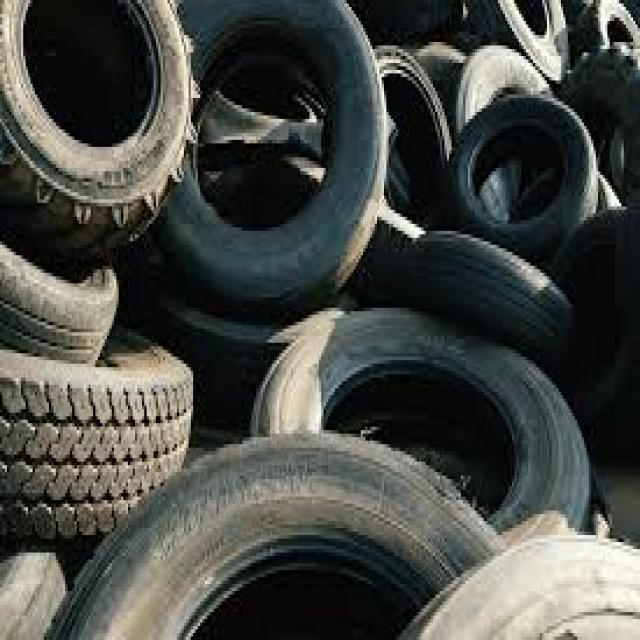Rubber -Non-Biodegradable but Recyclable-: (3, 0, 640, 638)
